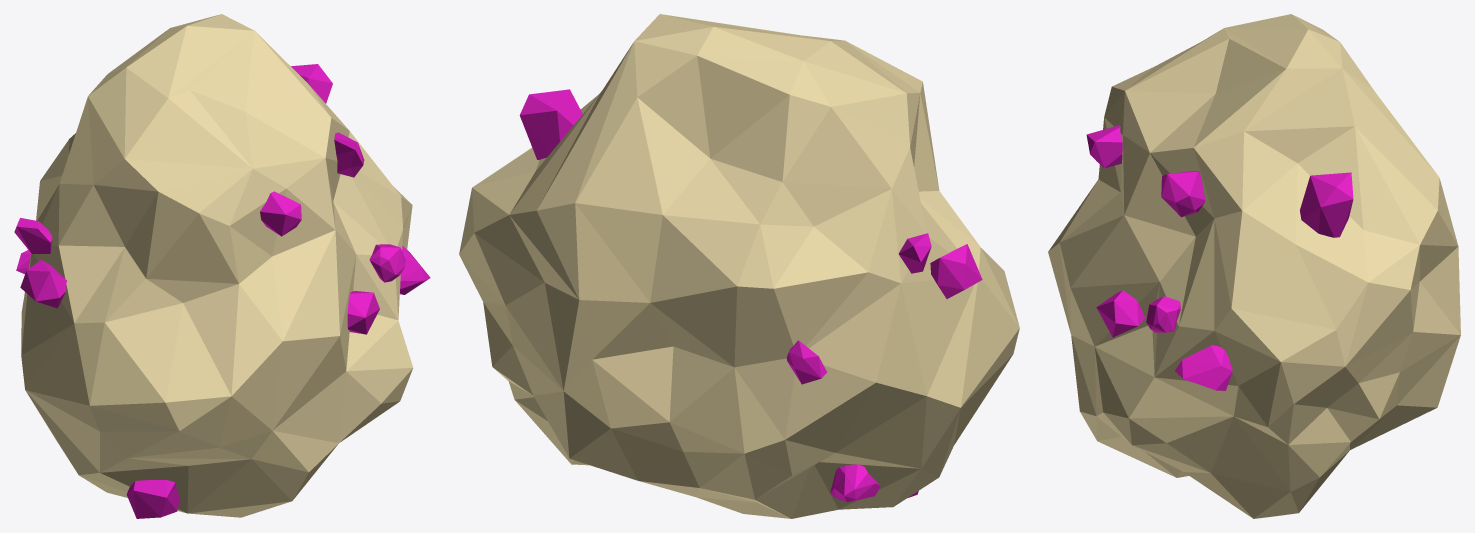
The model's file is CrystalOre (32).fbx.
3 views of the same model, side by side, from view 1: azimuth 30°, elevation 25°; view 2: azimuth 150°, elevation 25°; view 3: azimuth 270°, elevation 25° (orthographic). The views are drawn at different scales.
Visible parts, largest first — view 1: Asteroid252; view 2: Asteroid252; view 3: Asteroid252.
Boxes of the visible parts, x1,y1,x2,y2 form: Asteroid252: (14,14,430,518); Asteroid252: (459,14,1019,518); Asteroid252: (1048,14,1460,518).
Bounding box in the file's own units: 339 × 356 × 294.
